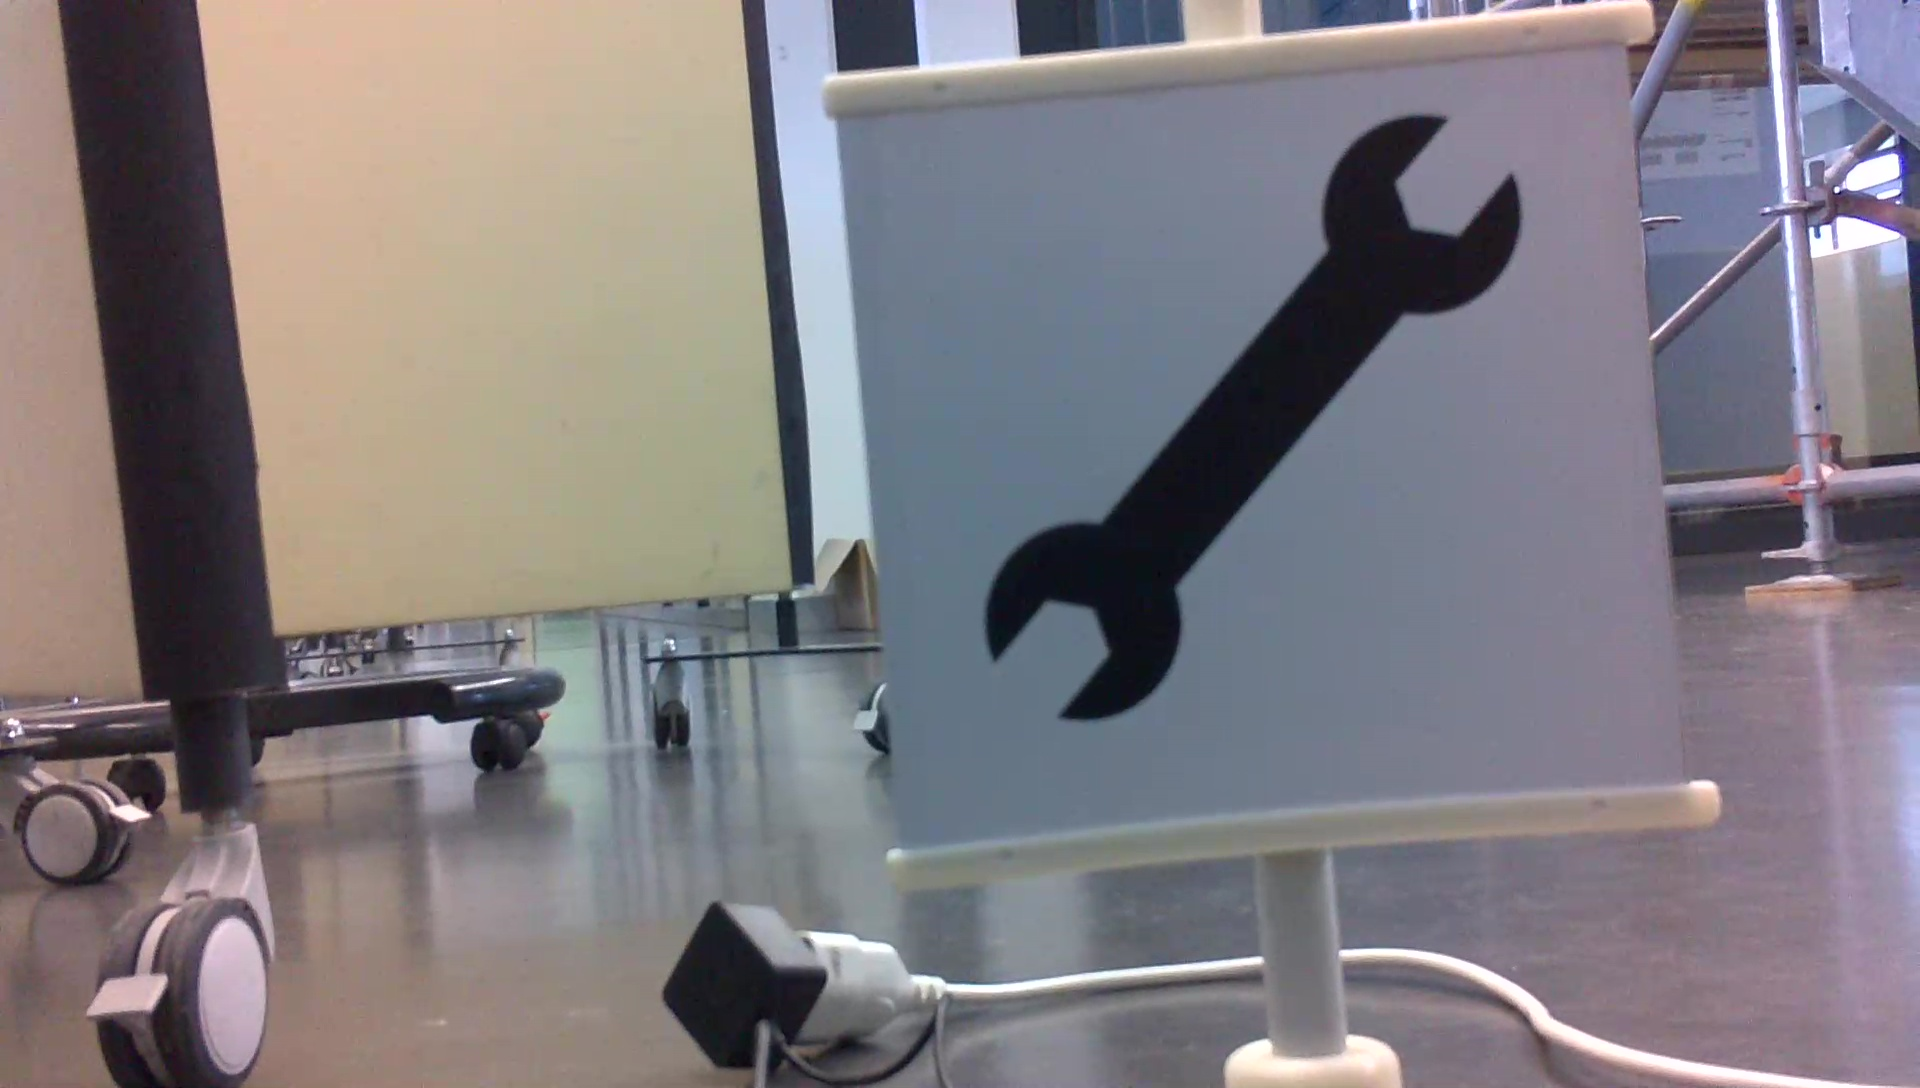wrench: (978, 103, 1528, 729)
